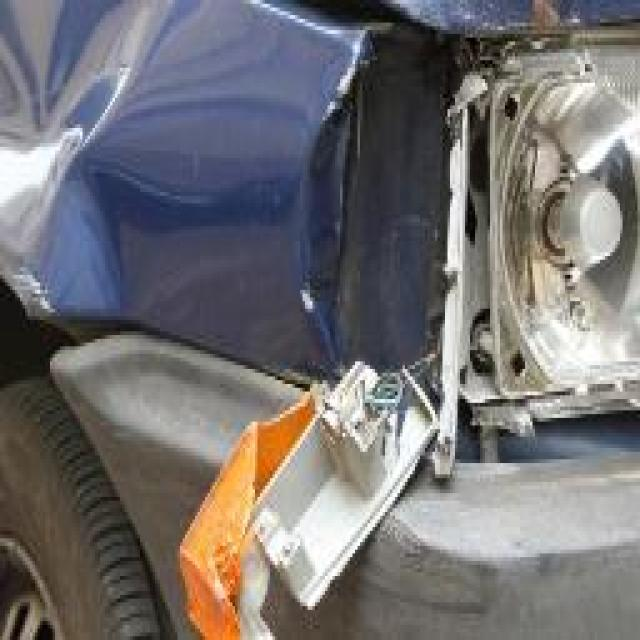Fender: (2, 15, 340, 335)
Light: (360, 34, 640, 456)
